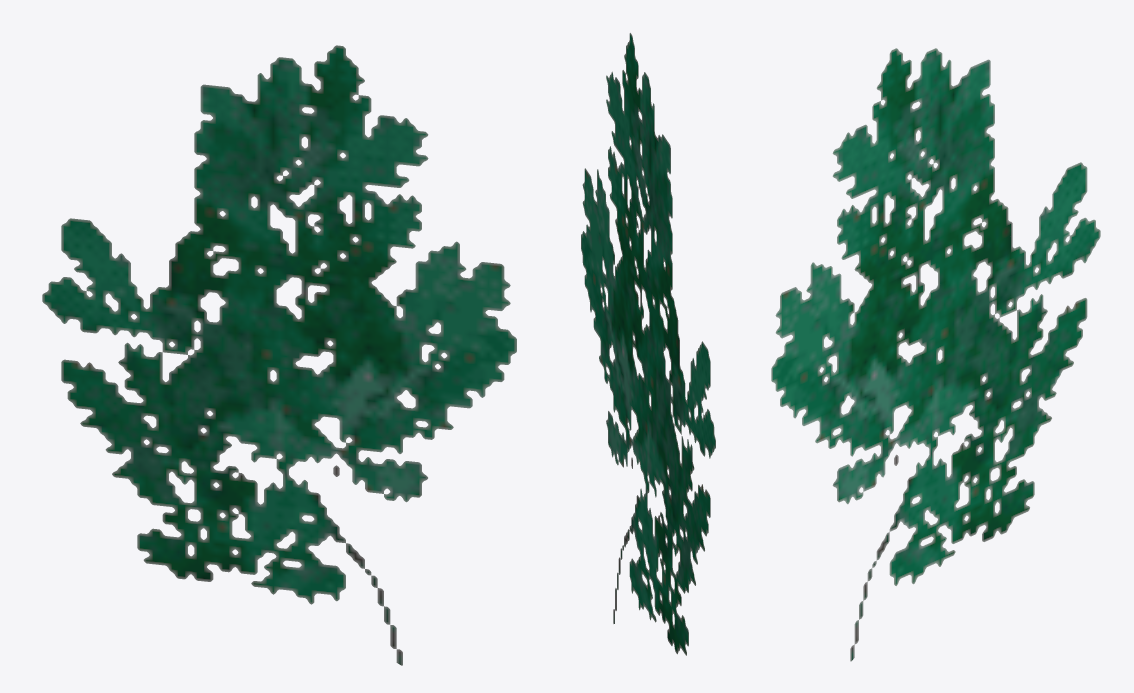
The model's file is Green Bush 1.fbx.
3 views of the same model, side by side, from view 1: azimuth 30°, elevation 25°; view 2: azimuth 150°, elevation 25°; view 3: azimuth 270°, elevation 25° (orthographic). The views are drawn at different scales.
Parts seen in each view (by area): view 1: Grass.002; view 2: Grass.002; view 3: Grass.002.
Boxes of the visible parts, bbox=[...] form: Grass.002: bbox=[42, 45, 516, 665]; Grass.002: bbox=[581, 33, 715, 655]; Grass.002: bbox=[771, 48, 1100, 661].
Bounding box in the file's own units: 233 × 427 × 225.
